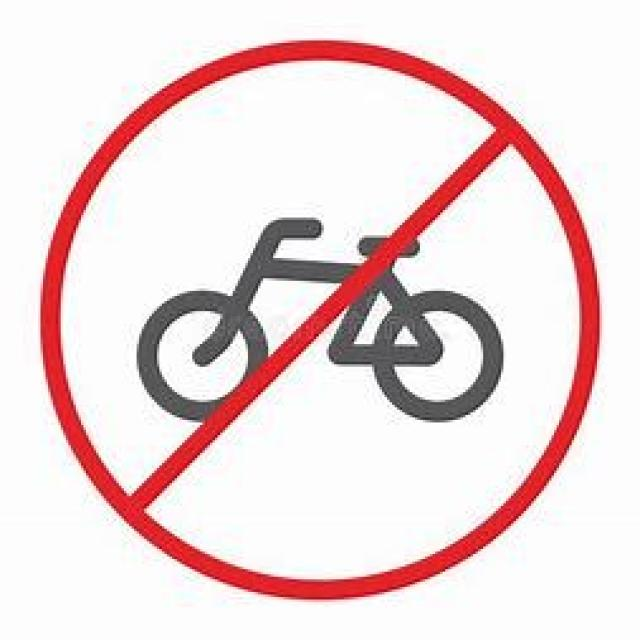cycle_prohibited: (36, 40, 600, 597)
